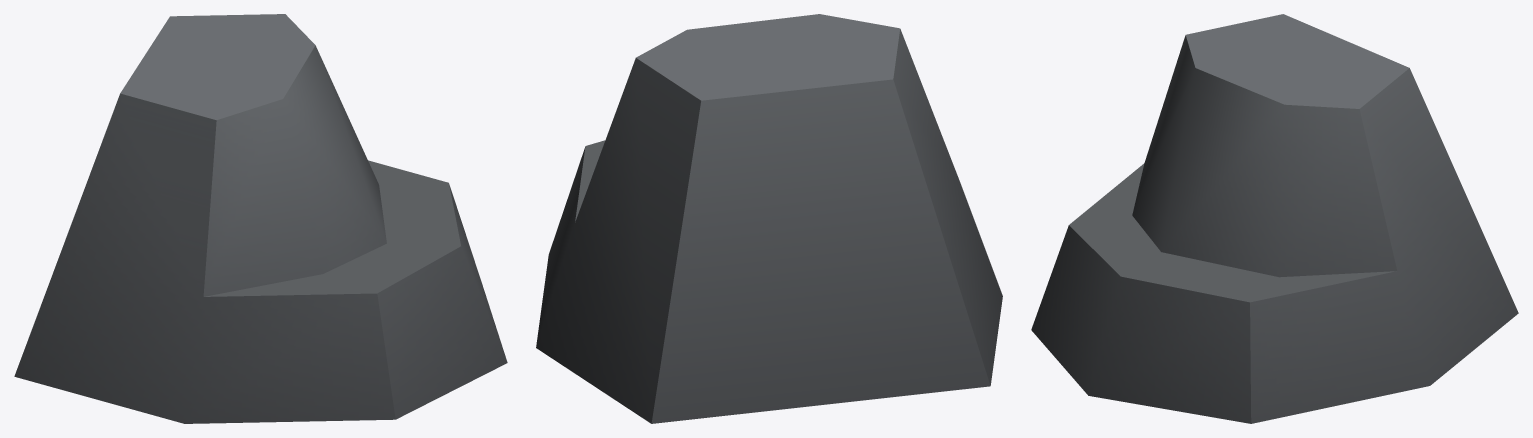
File: rock_C-T-buffMa.glb
3 views of the same model, side by side, from view 1: azimuth 30°, elevation 25°; view 2: azimuth 150°, elevation 25°; view 3: azimuth 270°, elevation 25° (orthographic). The views are drawn at different scales.
Visible parts, largest first — view 1: rock_single_C; view 2: rock_single_C; view 3: rock_single_C.
Part boxes in pixels (x1,y1,x2,y2): rock_single_C: (14, 14, 507, 423); rock_single_C: (536, 14, 1002, 423); rock_single_C: (1031, 14, 1518, 423).
Bounding box in the file's own units: 1.7 × 0.9642 × 1.7.
Materials: 1 (1 with a texture image).
